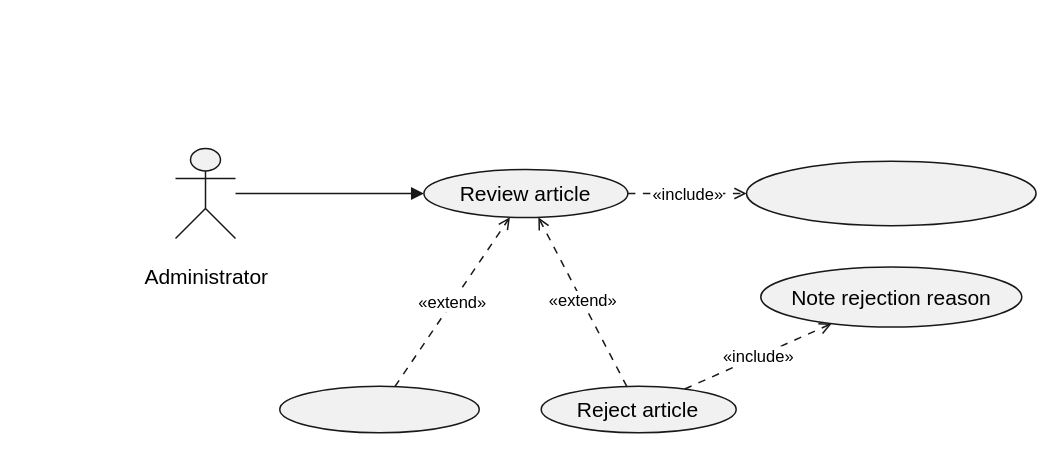
Some shapes in this 1062 by 459 pixel diagram are drawn without their labels. Here are the shapes that lost their labels. From the top down, the box of each, then its label:
(745, 160, 1036, 226): View pending article list
(278, 385, 479, 433): Accept article
